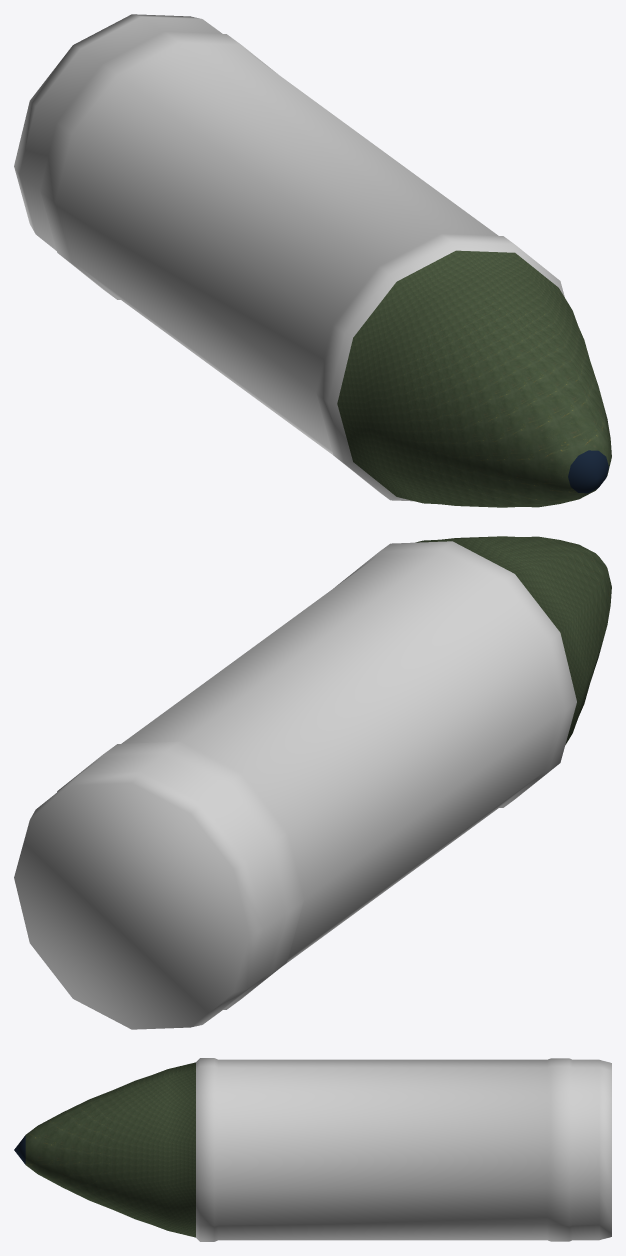
The model's file is Projectile_armor.fbx.
The picture shows the model from 3 angles, top to bottom: view 1: azimuth 30°, elevation 25°; view 2: azimuth 150°, elevation 25°; view 3: azimuth 270°, elevation 25°; orthographic projection. The views are drawn at different scales.
Visible parts, largest first — view 1: Cylinder; view 2: Cylinder; view 3: Cylinder.
Boxes of the visible parts, x1,y1,x2,y2 form: Cylinder: [14, 14, 611, 507]; Cylinder: [14, 536, 611, 1029]; Cylinder: [14, 1058, 611, 1241].
Bounding box in the file's own units: 204 × 204 × 660.
